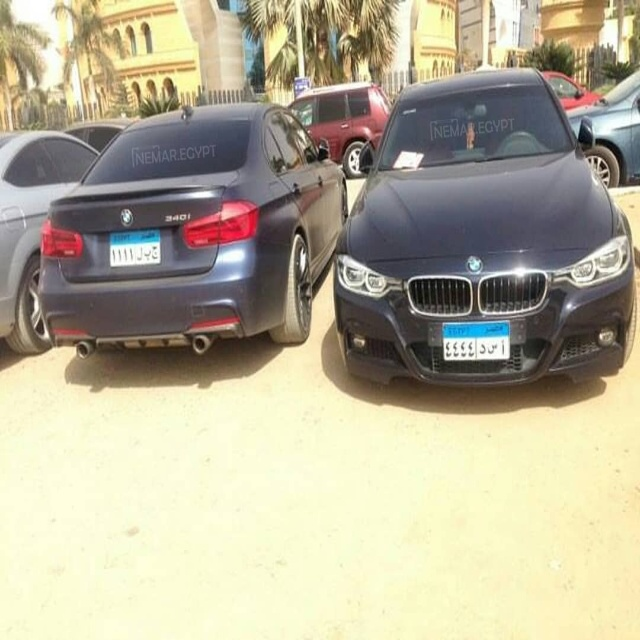License Plate: (440, 317, 513, 364), (106, 225, 164, 269)
